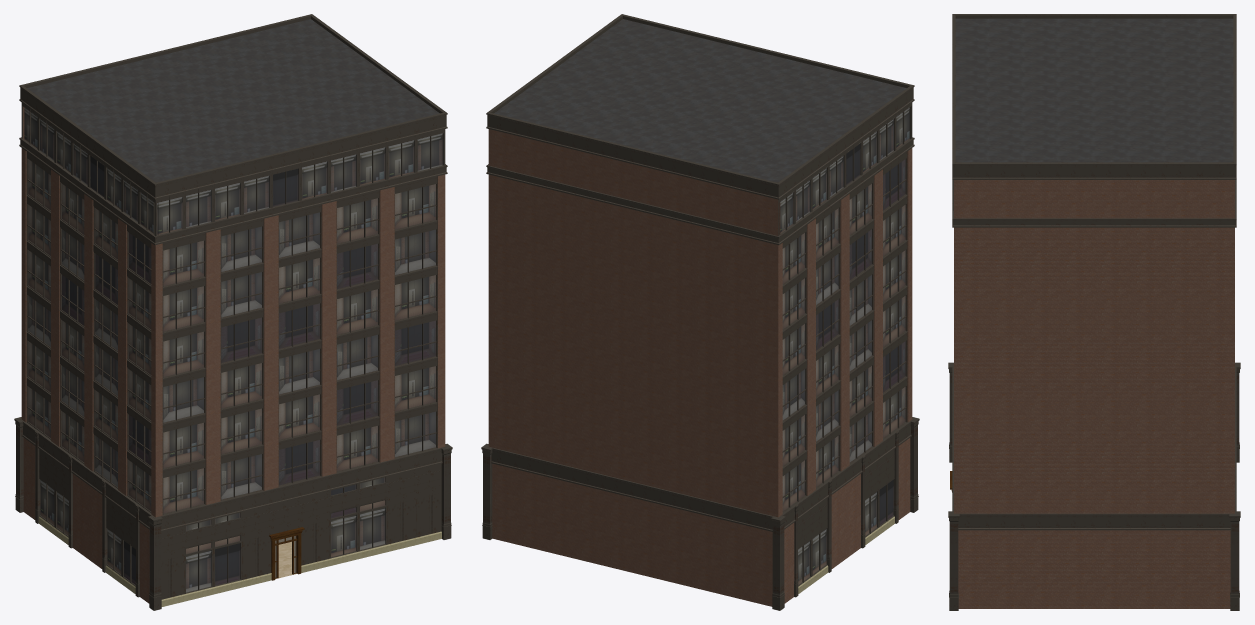
The model's file is Building_Large_2.glb.
3 renders of one model, left to right at view 1: azimuth 30°, elevation 25°; view 2: azimuth 150°, elevation 25°; view 3: azimuth 270°, elevation 25°, orthographic. The views are drawn at different scales.
Parts seen in each view (by area): view 1: Building_Large_2; view 2: Building_Large_2; view 3: Building_Large_2.
Boxes of the visible parts, <box> form: Building_Large_2: <box>14,14,452,610</box>; Building_Large_2: <box>481,14,919,610</box>; Building_Large_2: <box>948,14,1240,610</box>.
Bounding box in the file's own units: 20.64 × 28 × 16.64.
9 materials, 8 textured.
